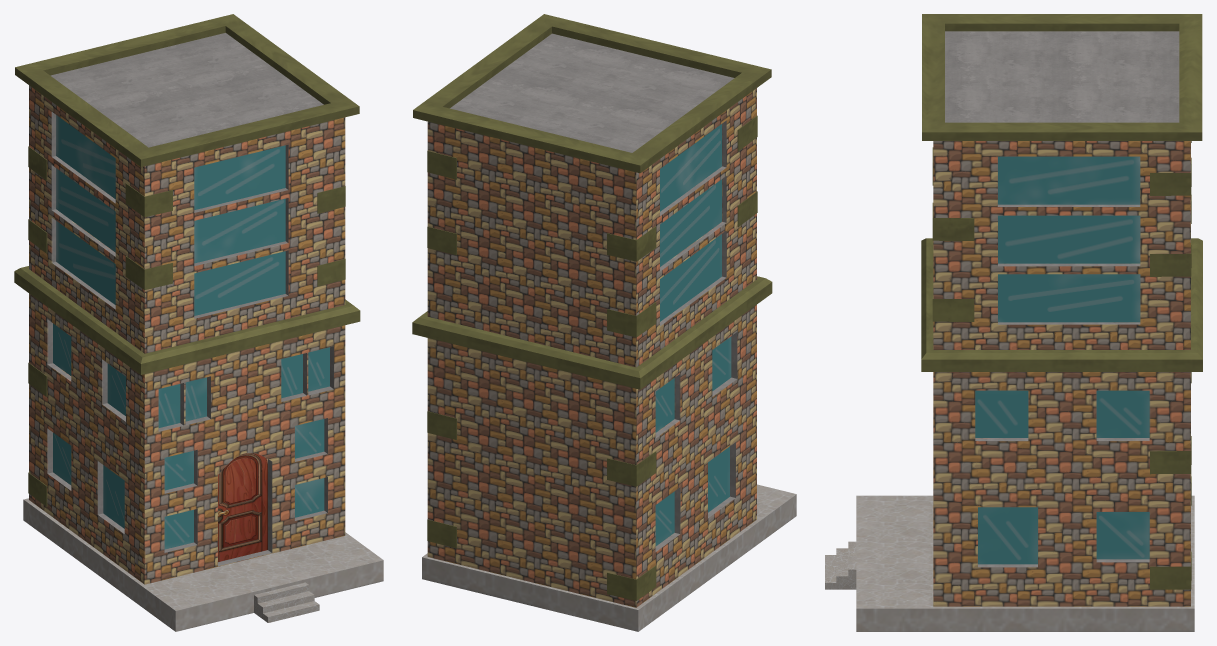
File: cartoon_building1.glb
3 views of the same model, side by side, from view 1: azimuth 30°, elevation 25°; view 2: azimuth 150°, elevation 25°; view 3: azimuth 270°, elevation 25° (orthographic). The views are drawn at different scales.
Visible parts, largest first — view 1: cartoon_building; view 2: cartoon_building; view 3: cartoon_building.
Boxes of the visible parts, x1=… form: cartoon_building: x1=14, y1=14, x2=383, y2=631; cartoon_building: x1=412, y1=14, x2=796, y2=631; cartoon_building: x1=825, y1=14, x2=1202, y2=631.
Size of the model in its own units: 0.6746 by 1.33 by 0.9051.
Materials: 1 (1 with a texture image).
